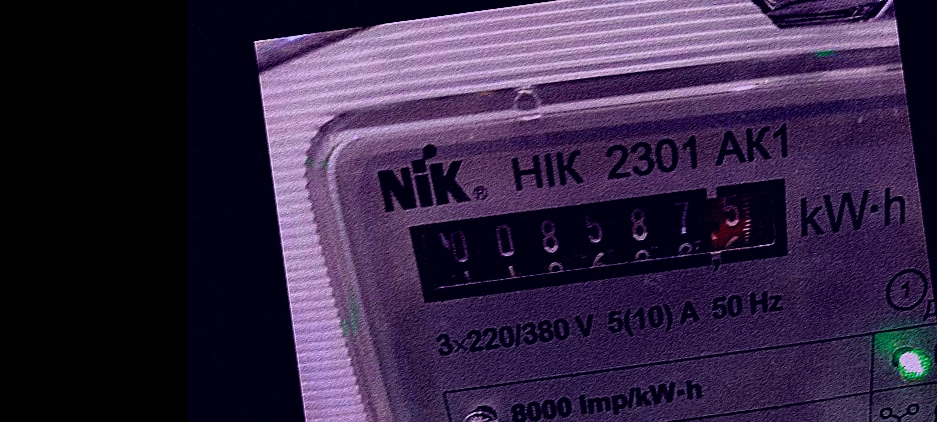0: (489, 217, 519, 259)
1: (444, 223, 473, 267)
5: (717, 187, 746, 230), (580, 206, 608, 246)
7: (668, 195, 696, 238)
8: (533, 213, 564, 257), (625, 201, 651, 244)
screen: (386, 153, 816, 327)
